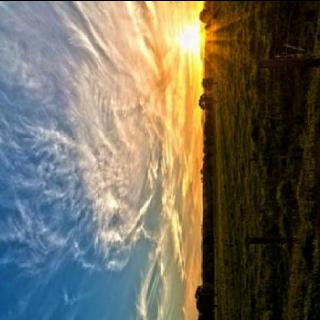Cirrostratus: (0, 0, 198, 320)
